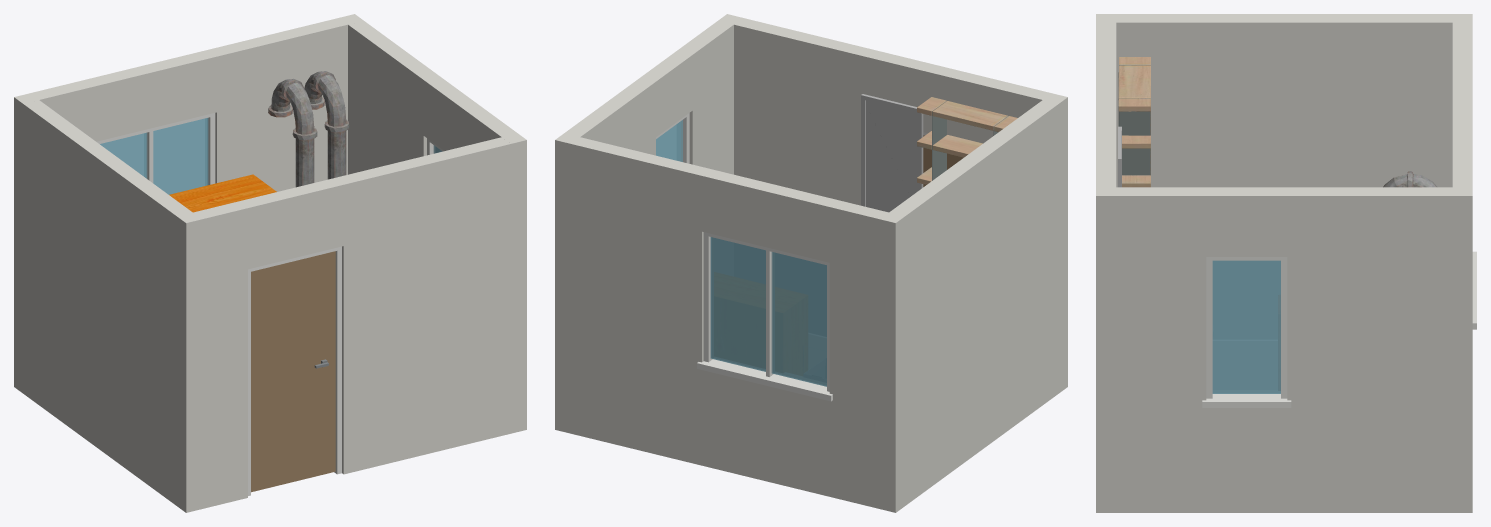
File: holodeck.glb
3 views of the same model, side by side, from view 1: azimuth 30°, elevation 25°; view 2: azimuth 150°, elevation 25°; view 3: azimuth 270°, elevation 25° (orthographic). The views are drawn at different scales.
Visible parts, largest first — view 1: wall|scenesmith_075__R00|0, wall|scenesmith_075__R00|2, wall|scenesmith_075__R00|1, wall|scenesmith_075__R00|0 Door 0 | wood leaf, wall|scenesmith_075__R00|3, scenesmith_075__R00_8, wall|scenesmith_075__R00|1 Window 0 | glazing, wall|scenesmith_075__R00|0 Door 0 | jamb, scenesmith_075__R00_3, wall|scenesmith_075__R00|1 Window 0 | jamb; view 2: wall|scenesmith_075__R00|1, wall|scenesmith_075__R00|2, wall|scenesmith_075__R00|0, wall|scenesmith_075__R00|3, wall|scenesmith_075__R00|1 Window 0 | glazing, scenesmith_075__R00_5, wall|scenesmith_075__R00|1 Window 0 | jamb, scenesmith_075__R00_6, wall|scenesmith_075__R00|3 Window 0 | glazing; view 3: wall|scenesmith_075__R00|3, wall|scenesmith_075__R00|2, wall|scenesmith_075__R00|3 Window 0 | glazing, scenesmith_075__R00_6, wall|scenesmith_075__R00|1, wall|scenesmith_075__R00|0, wall|scenesmith_075__R00|3 Window 0 | jamb, scenesmith_075__R00_8.
Boxes of the visible parts, <box> form: wall|scenesmith_075__R00|0: <box>186,137,526,512</box>; wall|scenesmith_075__R00|2: <box>23,100,201,512</box>; wall|scenesmith_075__R00|1: <box>14,14,363,393</box>; wall|scenesmith_075__R00|0 Door 0 | wood leaf: <box>251,251,335,492</box>; wall|scenesmith_075__R00|3: <box>348,21,526,174</box>; scenesmith_075__R00_8: <box>268,71,349,187</box>; wall|scenesmith_075__R00|1 Window 0 | glazing: <box>100,118,208,194</box>; wall|scenesmith_075__R00|0 Door 0 | jamb: <box>248,246,341,495</box>; scenesmith_075__R00_3: <box>169,174,276,212</box>; wall|scenesmith_075__R00|1 Window 0 | jamb: <box>96,113,215,184</box>; wall|scenesmith_075__R00|1: <box>555,133,904,512</box>; wall|scenesmith_075__R00|2: <box>880,93,1067,512</box>; wall|scenesmith_075__R00|0: <box>734,18,1067,389</box>; wall|scenesmith_075__R00|3: <box>555,14,742,433</box>; wall|scenesmith_075__R00|1 Window 0 | glazing: <box>710,237,826,386</box>; scenesmith_075__R00_5: <box>861,94,923,212</box>; wall|scenesmith_075__R00|1 Window 0 | jamb: <box>697,232,832,401</box>; scenesmith_075__R00_6: <box>917,97,1017,184</box>; wall|scenesmith_075__R00|3 Window 0 | glazing: <box>656,120,682,161</box>; wall|scenesmith_075__R00|3: <box>1096,187,1472,512</box>; wall|scenesmith_075__R00|2: <box>1096,14,1452,187</box>; wall|scenesmith_075__R00|3 Window 0 | glazing: <box>1212,260,1280,393</box>; scenesmith_075__R00_6: <box>1118,57,1150,187</box>; wall|scenesmith_075__R00|1: <box>1452,14,1472,195</box>; wall|scenesmith_075__R00|0: <box>1096,22,1116,187</box>; wall|scenesmith_075__R00|3 Window 0 | jamb: <box>1202,257,1291,407</box>; scenesmith_075__R00_8: <box>1383,171,1437,187</box>.
Size of the model in its own units: 3.23 by 2.61 by 2.83.
15 materials, 9 textured.
